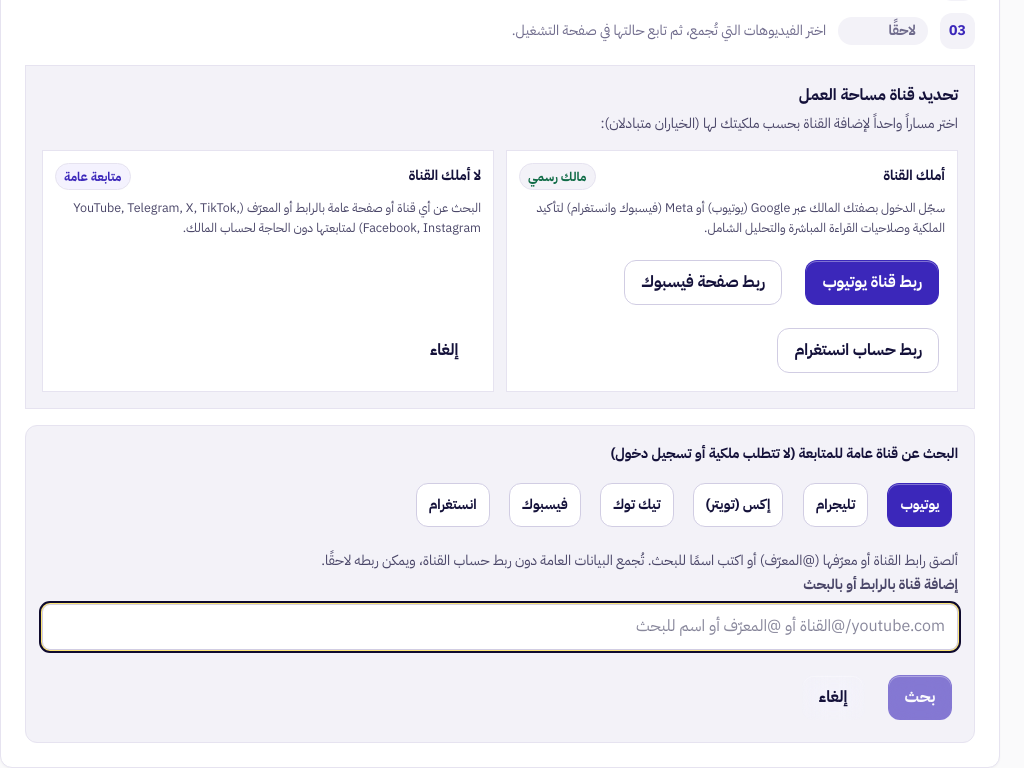
Test: WorkspaceCard › add channel by link or search › refuses an Instagram post link as an account
The image size is (1024, 768).
(page scrolled)
Click the button "انستغرام" at (453, 505), box [416, 483, 490, 527]
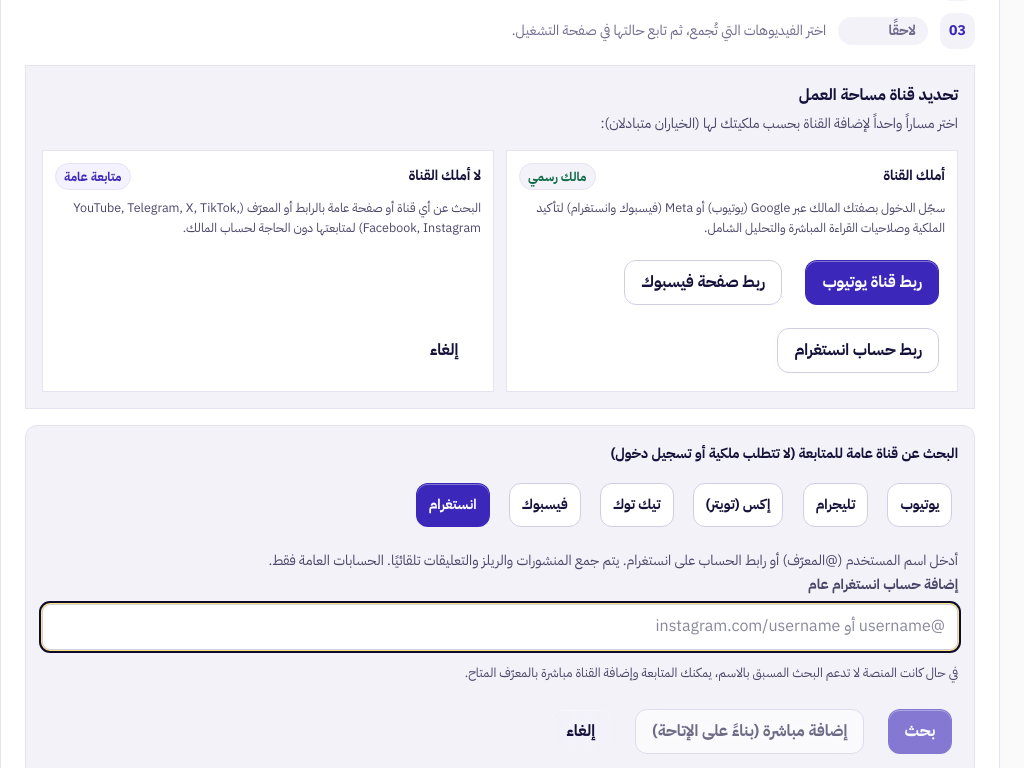
Type "https://www.instagram.com/p/DLNsnpUTdVS/" into the field labelled "إضافة حساب انستغرام عام" at (500, 627), box [42, 604, 958, 650]
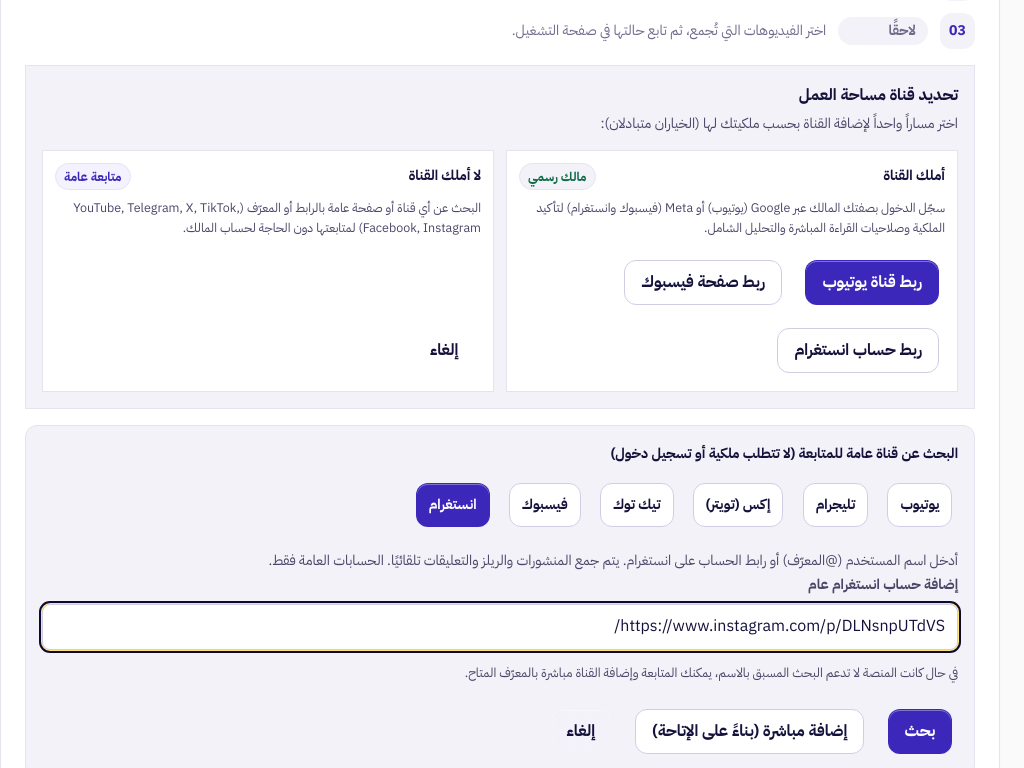
Click the button "إضافة مباشرة (بناءً على الإتاحة)" at (750, 731), box [635, 709, 864, 754]
(page scrolled)
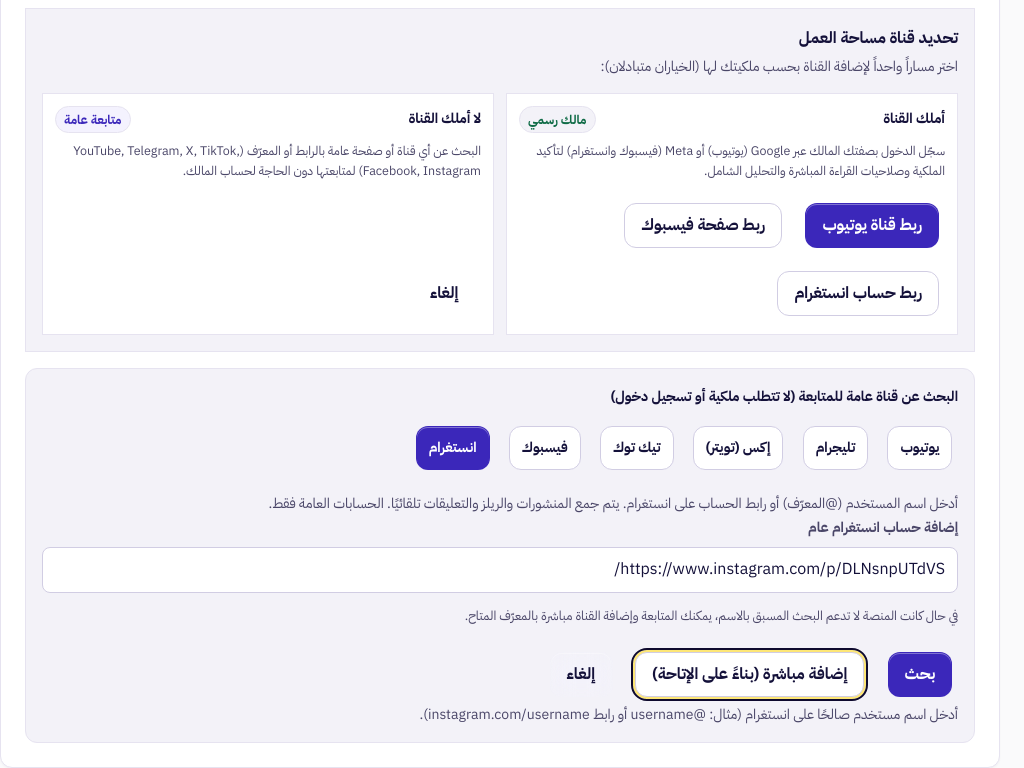
Check: the text "أدخل اسم مستخدم صالحًا على انستغرام (مثال: @username أو رابط instagram.com/username)." is shown, box [419, 704, 958, 725]
